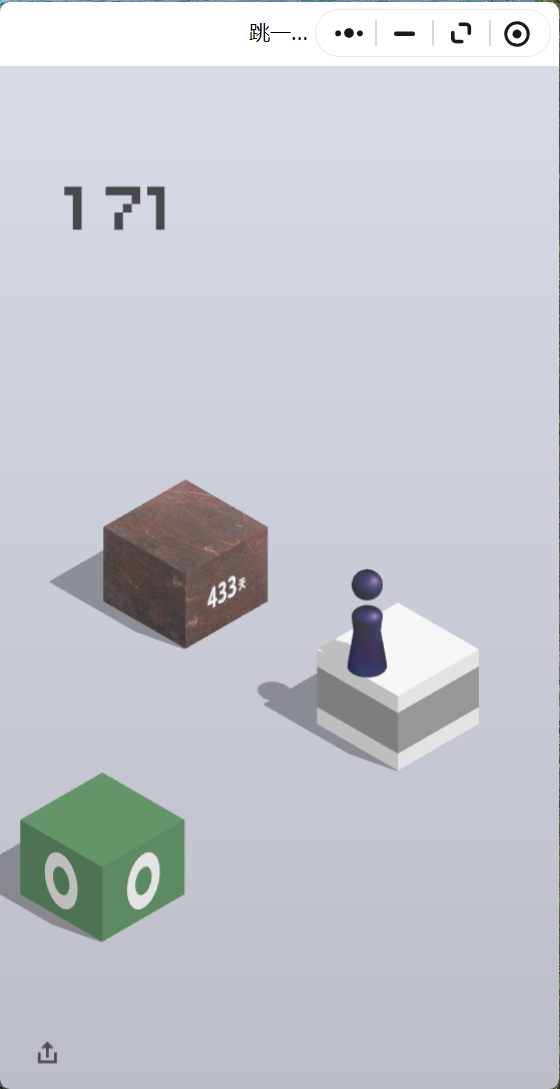piece: (352, 570, 382, 673)
target: (103, 478, 268, 573)
